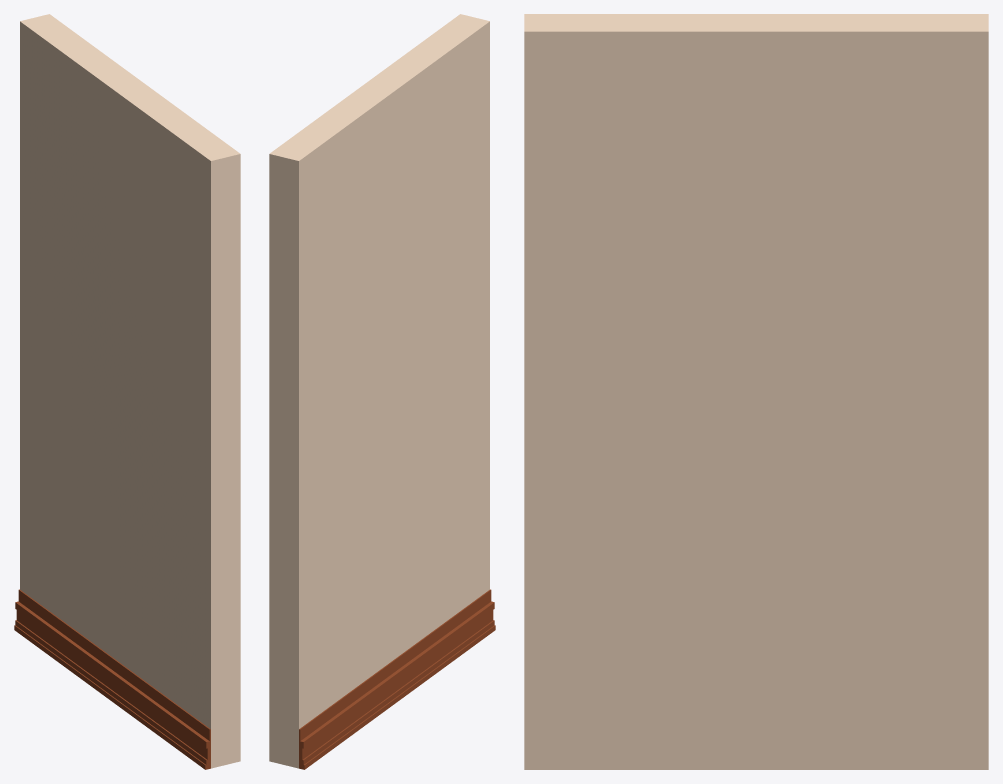
File: SmallWall.dae
3 views of the same model, side by side, from view 1: azimuth 30°, elevation 25°; view 2: azimuth 150°, elevation 25°; view 3: azimuth 270°, elevation 25° (orthographic). The views are drawn at different scales.
Visible parts, largest first — view 1: Group_12 (×2); view 2: Group_12 (×2); view 3: Group_12.
Part boxes in pixels (x1=…): Group_12 (×2): x1=14, y1=14, x2=240, y2=769; Group_12 (×2): x1=269, y1=14, x2=495, y2=769; Group_12: x1=524, y1=14, x2=988, y2=769.
Size of the model in its own units: 8.35 by 78.31 by 137.
